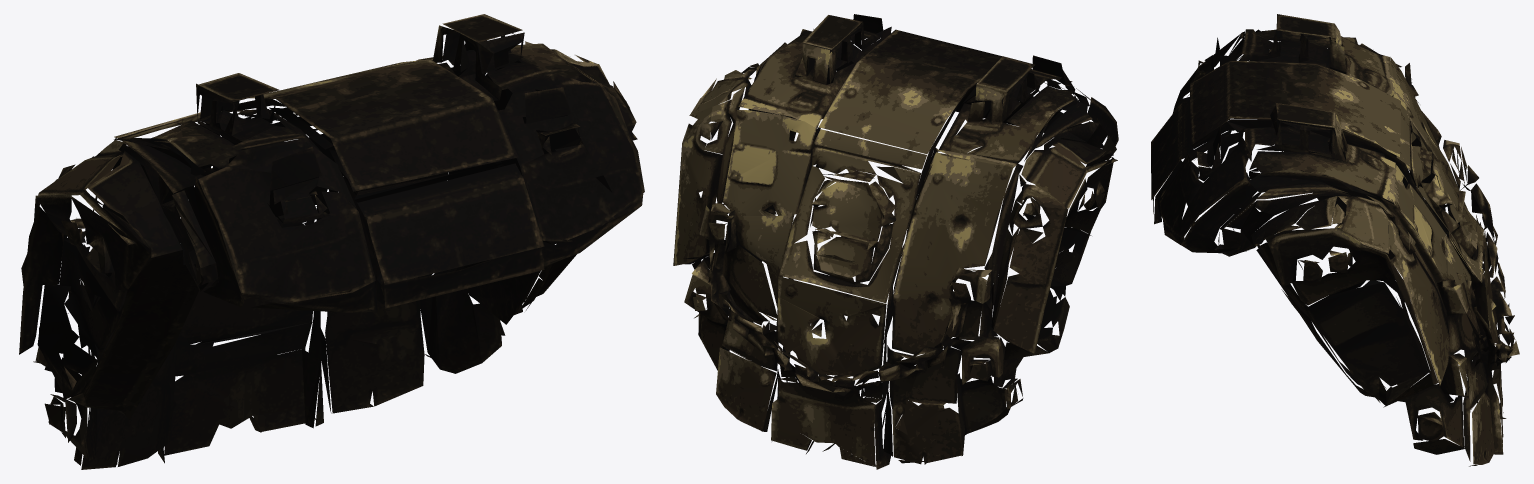
The model's file is mo_plating.glb.
3 renders of one model, left to right at view 1: azimuth 30°, elevation 25°; view 2: azimuth 150°, elevation 25°; view 3: azimuth 270°, elevation 25°, orthographic. The views are drawn at different scales.
Parts seen in each view (by area): view 1: mo_plating; view 2: mo_plating; view 3: mo_plating.
Boxes of the visible parts, bbox=[...] form: mo_plating: bbox=[19, 14, 644, 469]; mo_plating: bbox=[673, 14, 1118, 469]; mo_plating: bbox=[1151, 14, 1519, 466].
Size of the model in its own units: 0.2 by 0.1703 by 0.1578.
1 material, 1 textured.
